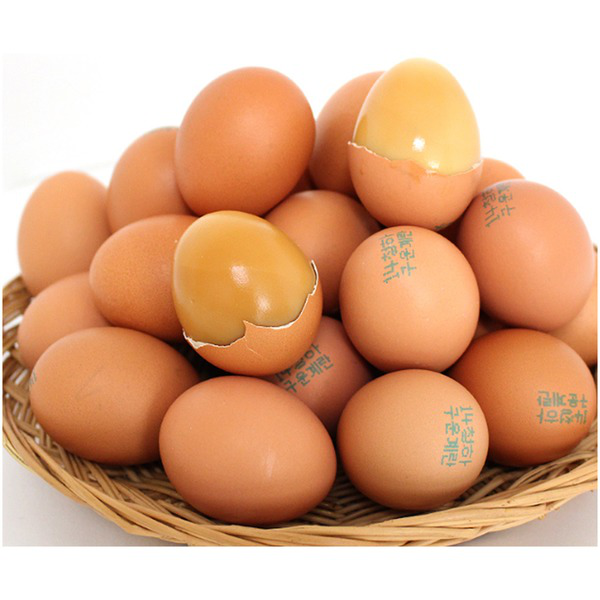egg: (16, 57, 598, 513)
